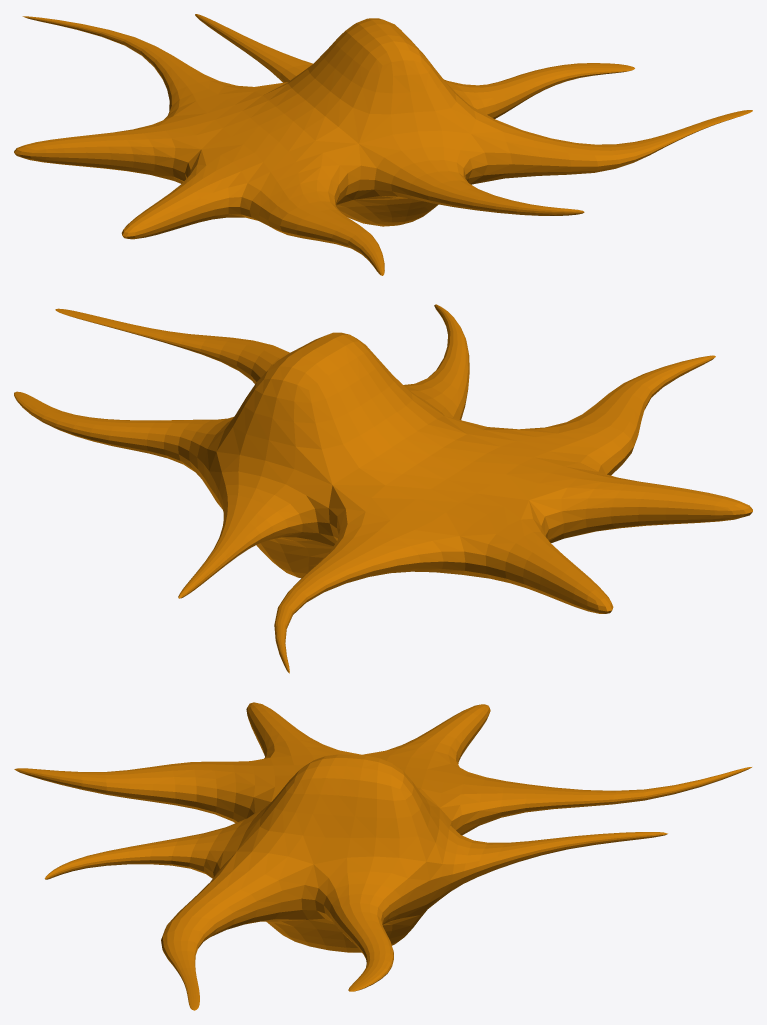
Rendered from fibro7.dae.
3 views of the same model, one above another, from view 1: azimuth 30°, elevation 25°; view 2: azimuth 150°, elevation 25°; view 3: azimuth 270°, elevation 25° (orthographic). The views are drawn at different scales.
Visible parts, largest first — view 1: polymsh; view 2: polymsh; view 3: polymsh.
Part boxes in pixels (x1,y1,x2,y2): polymsh: (14, 14, 752, 275); polymsh: (14, 304, 752, 673); polymsh: (14, 702, 751, 1010).
Size of the model in its own units: 36.62 by 37.46 by 10.76.
